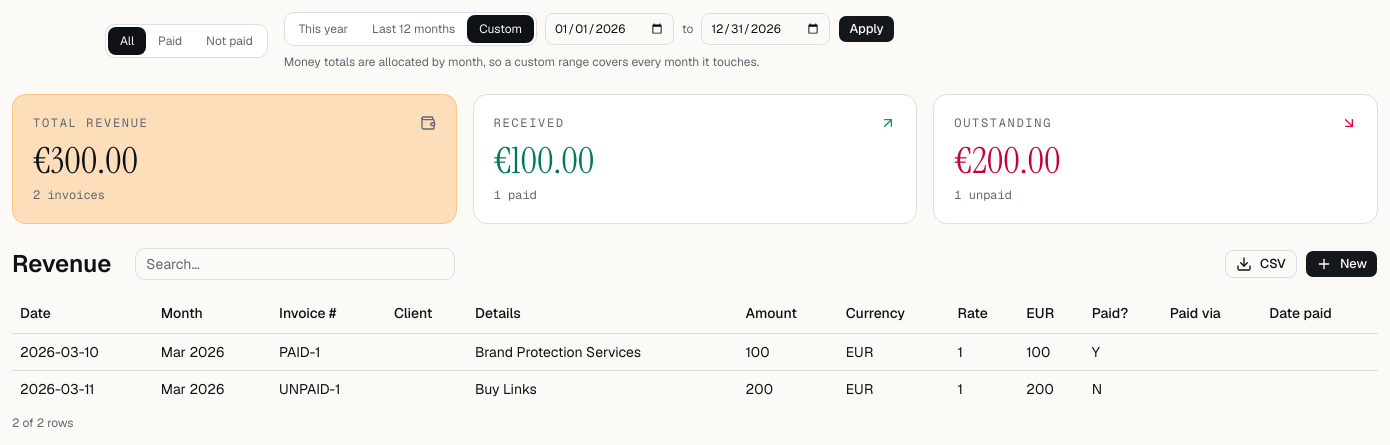
Test case: Revenue paid filter › returns to the full list when All is clicked again
The image size is (1390, 445).
Step 1. Click the button "Not paid" → point(229, 41), box left=194, top=27, right=265, bottom=55
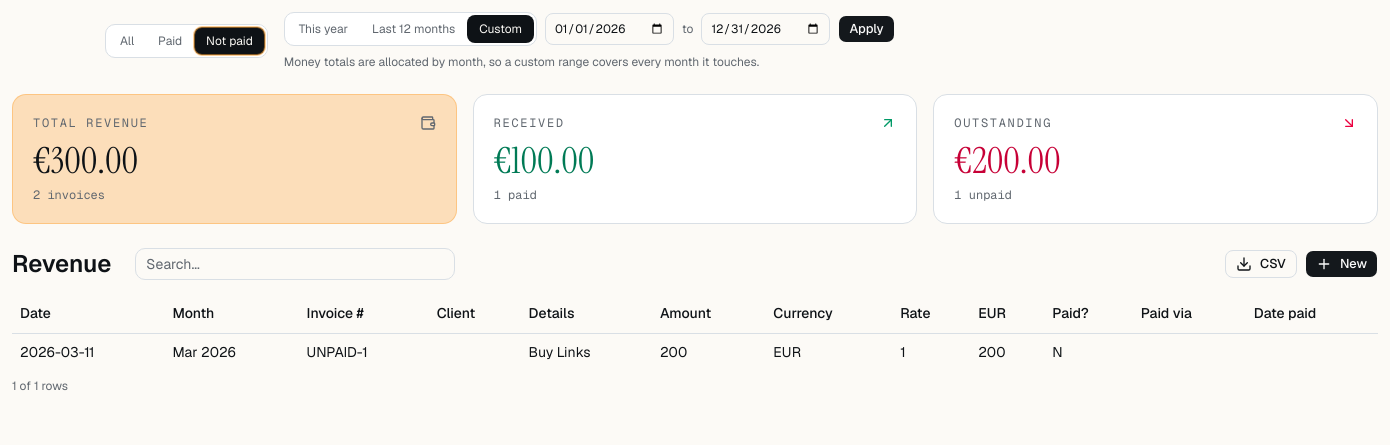
Step 2. Click the button "All" → point(127, 41), box left=108, top=27, right=146, bottom=55
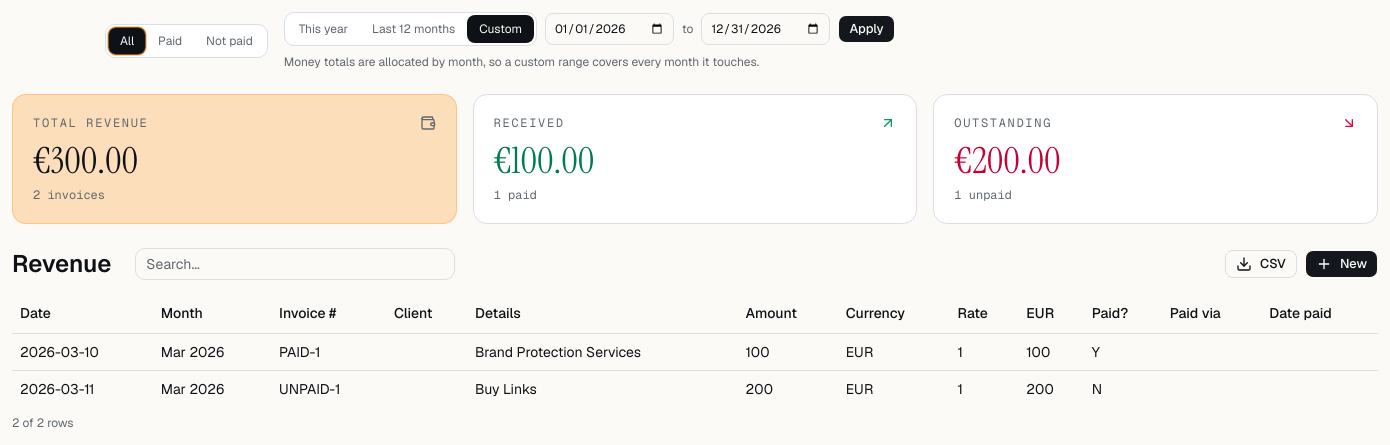
Expected: the text "UNPAID-1" is shown, left=271, top=370, right=386, bottom=406
Expected: the text "PAID-1" is shown, left=271, top=333, right=386, bottom=370
